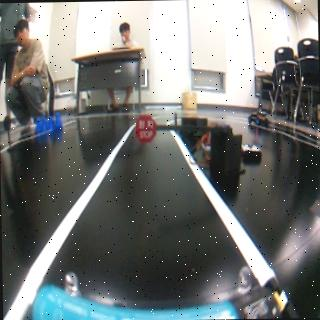stop: (134, 114, 156, 142)
